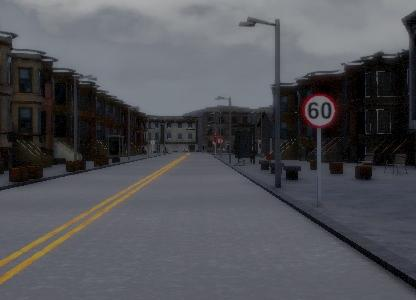Speed_60: (302, 88, 336, 131)
